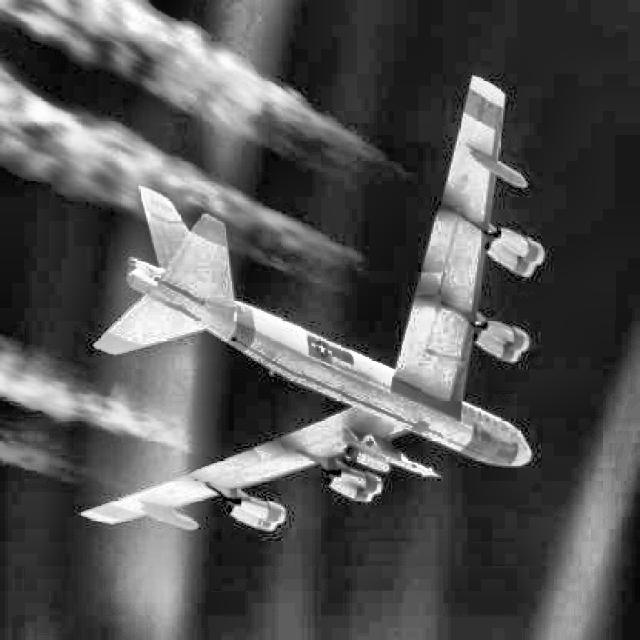B52: (78, 74, 544, 532)
